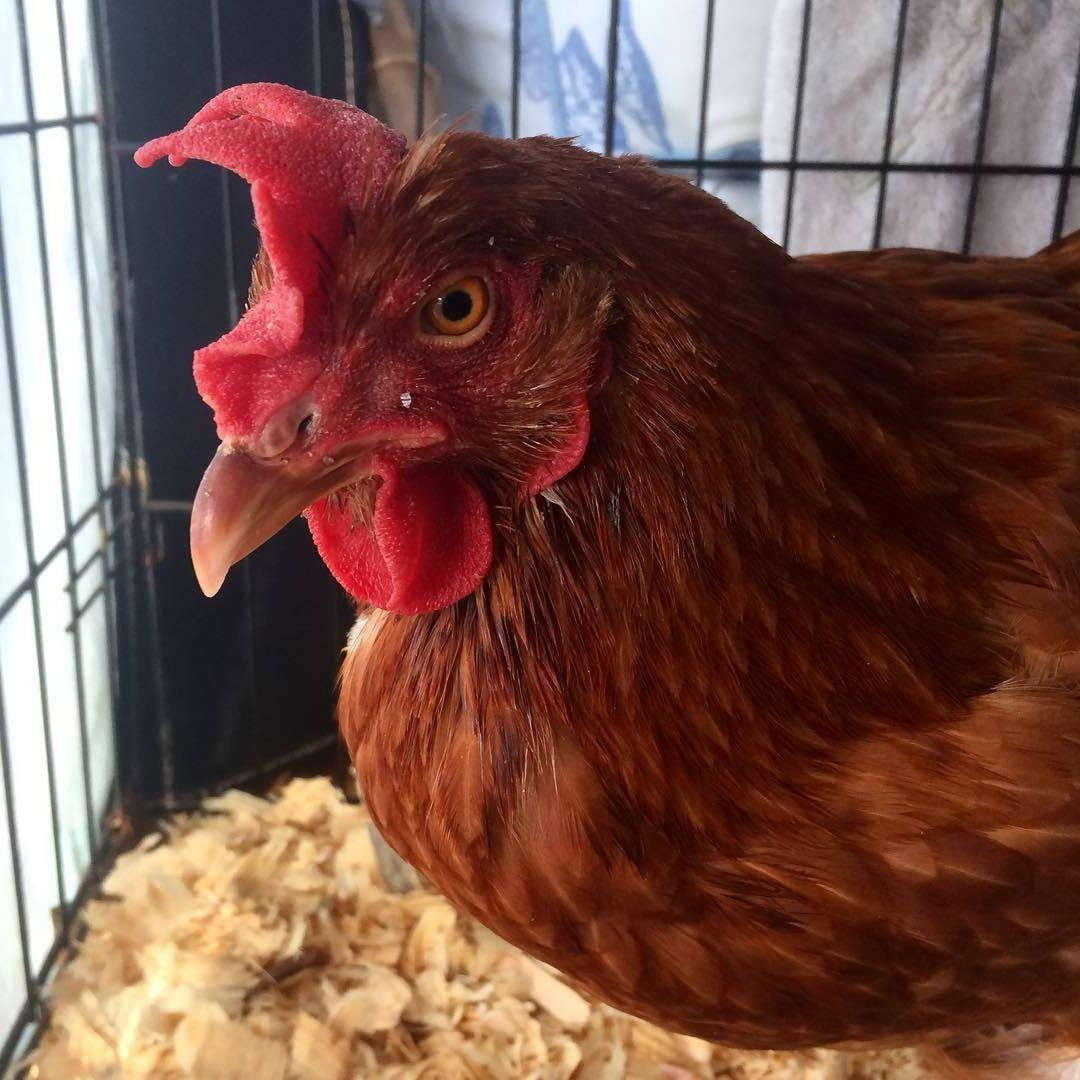AbNormal: (155, 73, 396, 446)
